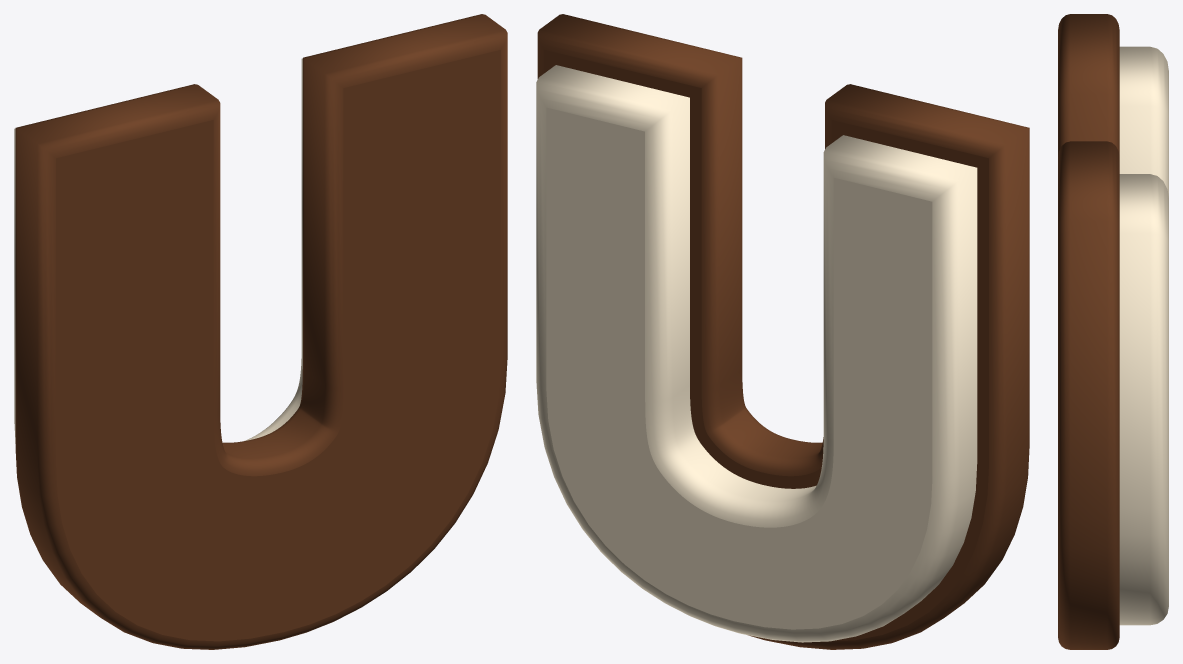
Rendered from Letter_U.fbx.
3 views of the same model, side by side, from view 1: azimuth 30°, elevation 25°; view 2: azimuth 150°, elevation 25°; view 3: azimuth 270°, elevation 25° (orthographic). The views are drawn at different scales.
Visible parts, largest first — view 1: Letter_U; view 2: Letter_U; view 3: Letter_U.
Boxes of the visible parts, x1=… form: Letter_U: x1=14, y1=14, x2=507, y2=649; Letter_U: x1=536, y1=14, x2=1029, y2=649; Letter_U: x1=1058, y1=14, x2=1168, y2=649.
Size of the model in its own units: 0.797 by 0.9011 by 0.18.
Materials: 1 (1 with a texture image).
